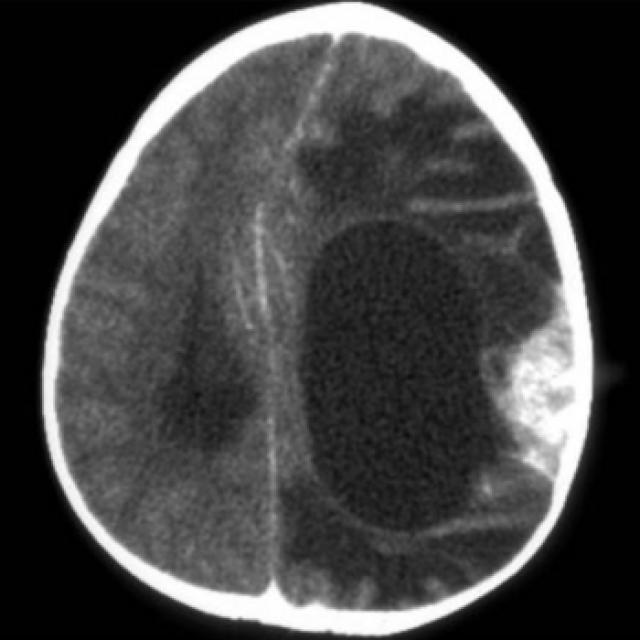Tumor: (502, 319, 567, 451)
